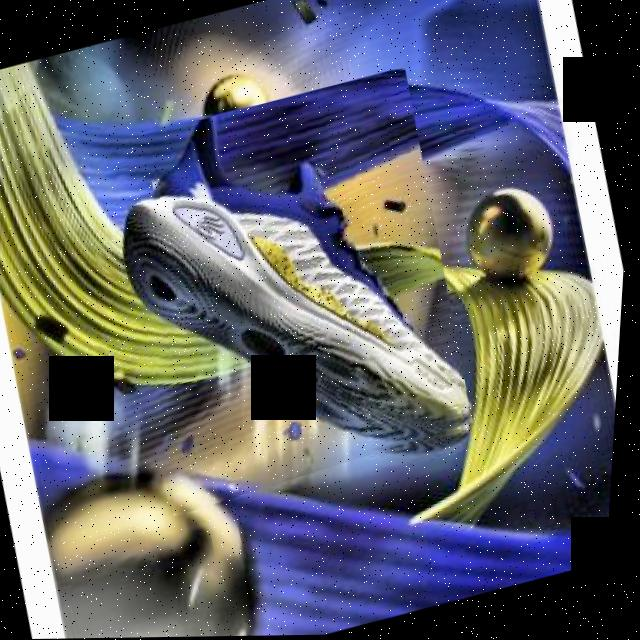shoe: (83, 66, 498, 519)
